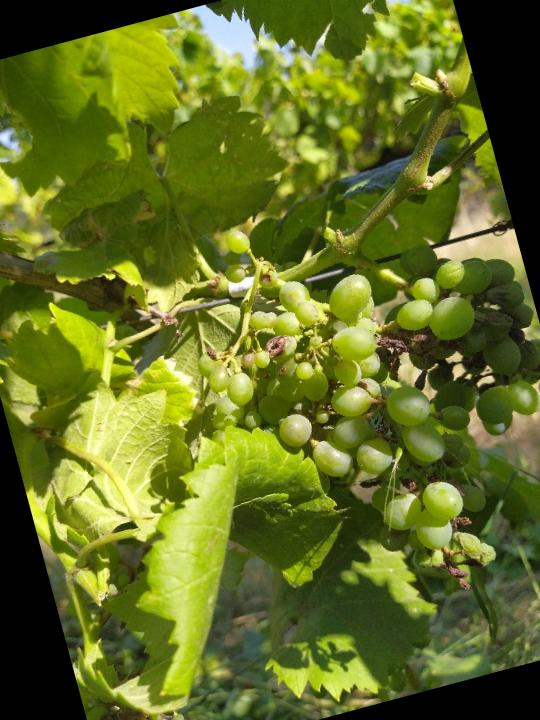grape: (166, 183, 514, 645), (374, 219, 540, 459)
